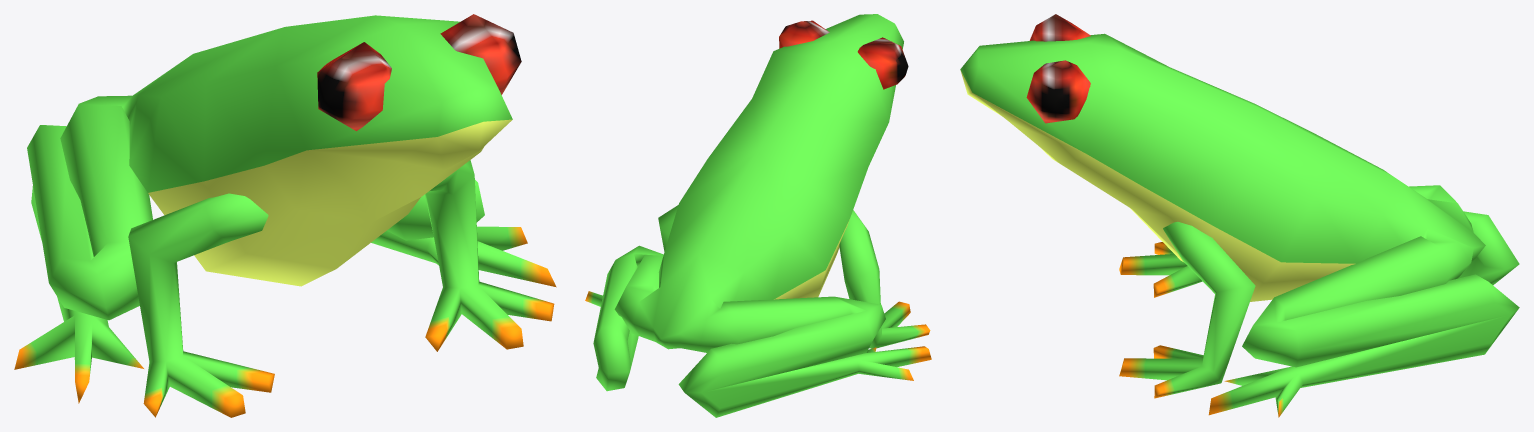
File: ab86f552-dcc6-40b9-af23-ccb0845a57ee.glb
3 views of the same model, side by side, from view 1: azimuth 30°, elevation 25°; view 2: azimuth 150°, elevation 25°; view 3: azimuth 270°, elevation 25° (orthographic). The views are drawn at different scales.
Visible parts, largest first — view 1: Frog01; view 2: Frog01; view 3: Frog01.
Boxes of the visible parts, left/top/right/bottom form: Frog01: left=14, top=14, right=556, bottom=417; Frog01: left=585, top=14, right=931, bottom=417; Frog01: left=960, top=14, right=1519, bottom=417.
Size of what is drawn, in the model's own units: 0.2855 by 0.2053 by 0.3589.
1 material, 1 textured.
